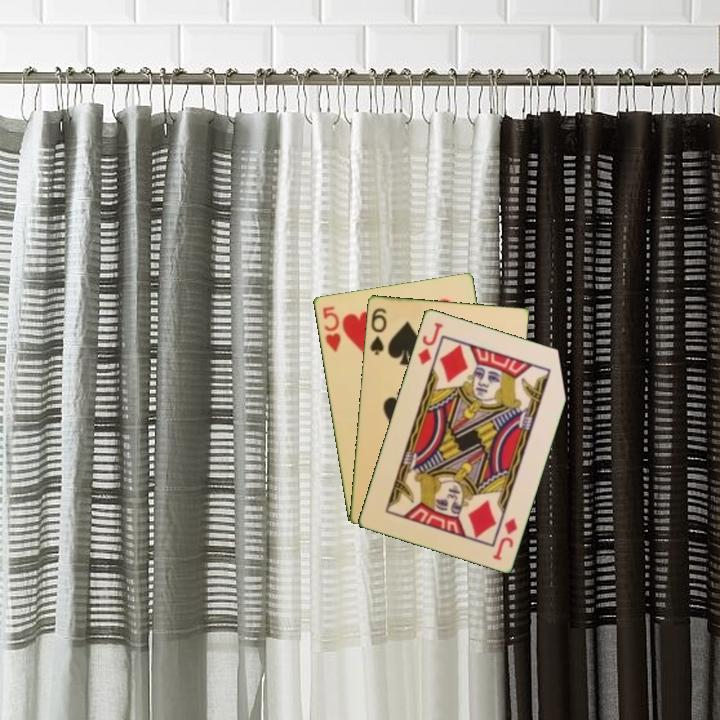5h: (319, 302, 343, 354)
6s: (366, 304, 389, 357)
Jd: (414, 318, 446, 367), (489, 514, 520, 563)
